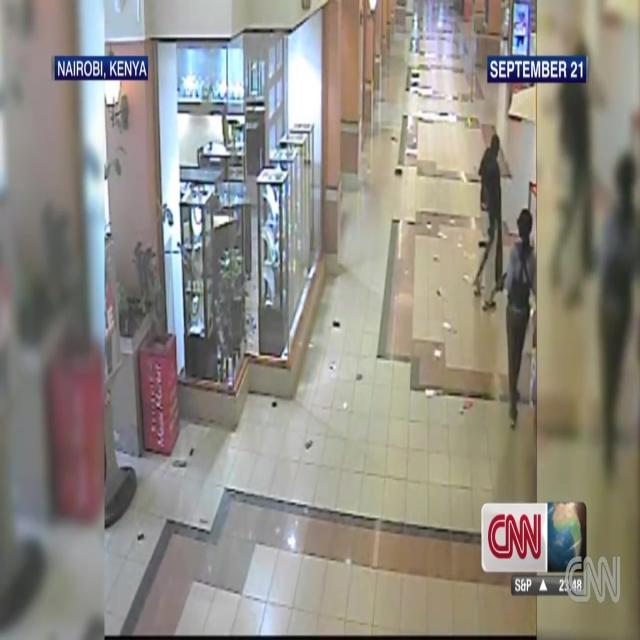Weapon: (484, 261, 514, 314), (484, 215, 501, 288)
